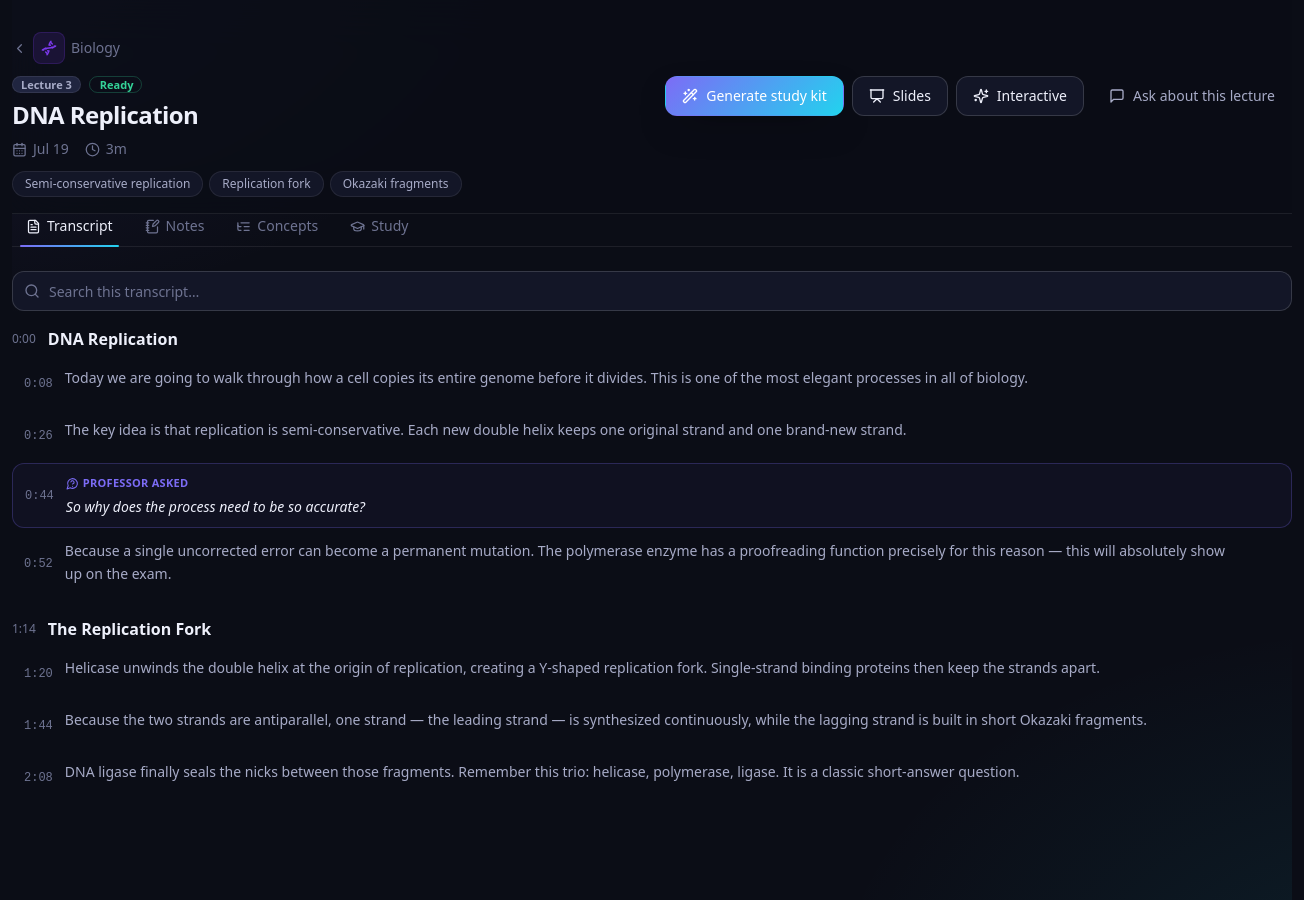
LecturePage › flips a flashcard to reveal its answer
The image size is (1304, 900).
Click the tab "Study" at (379, 226), box x1=336 y1=206 x2=422 y2=246
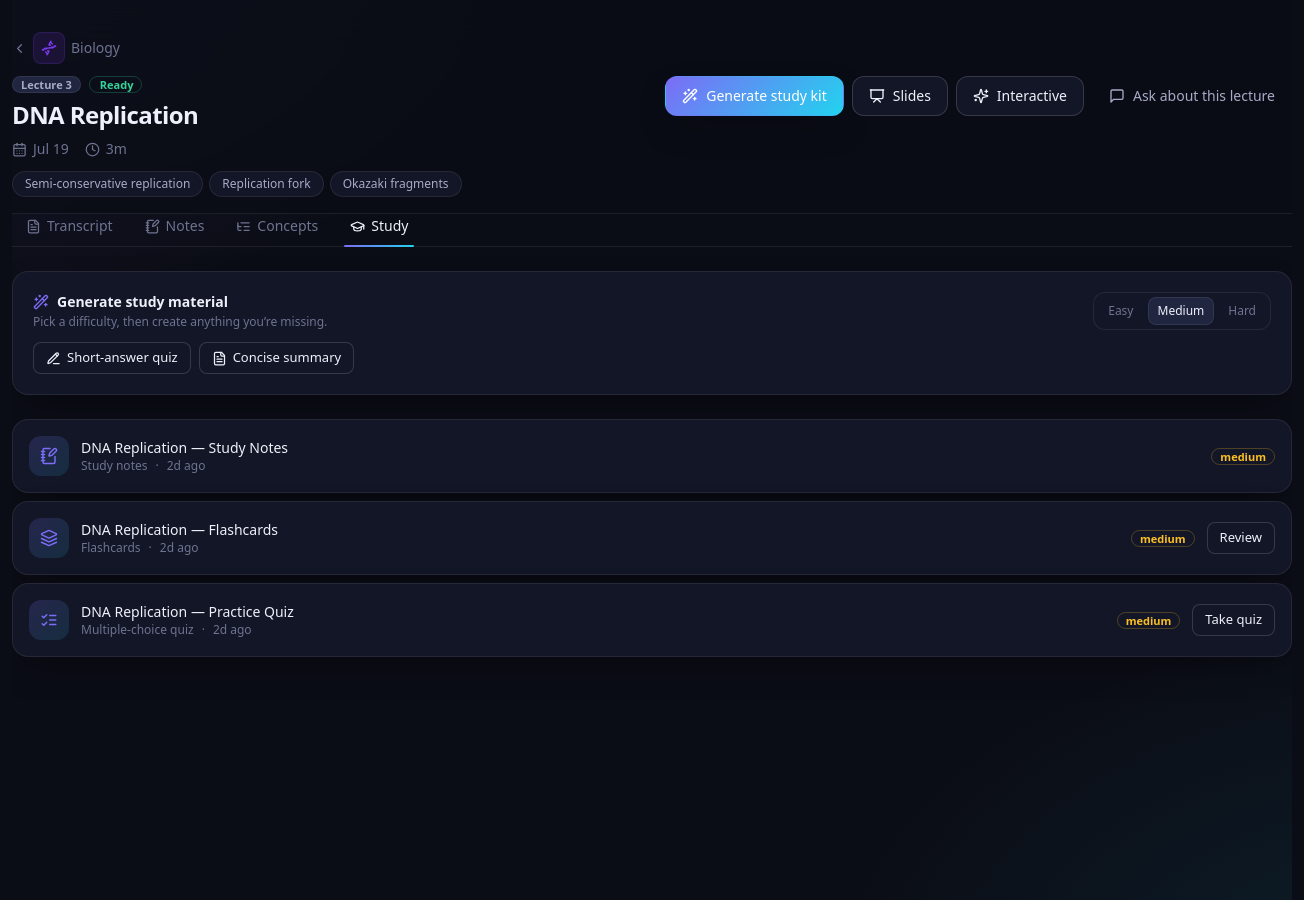
Click the button "Review" at (1241, 538), box x1=1207 y1=522 x2=1275 y2=554
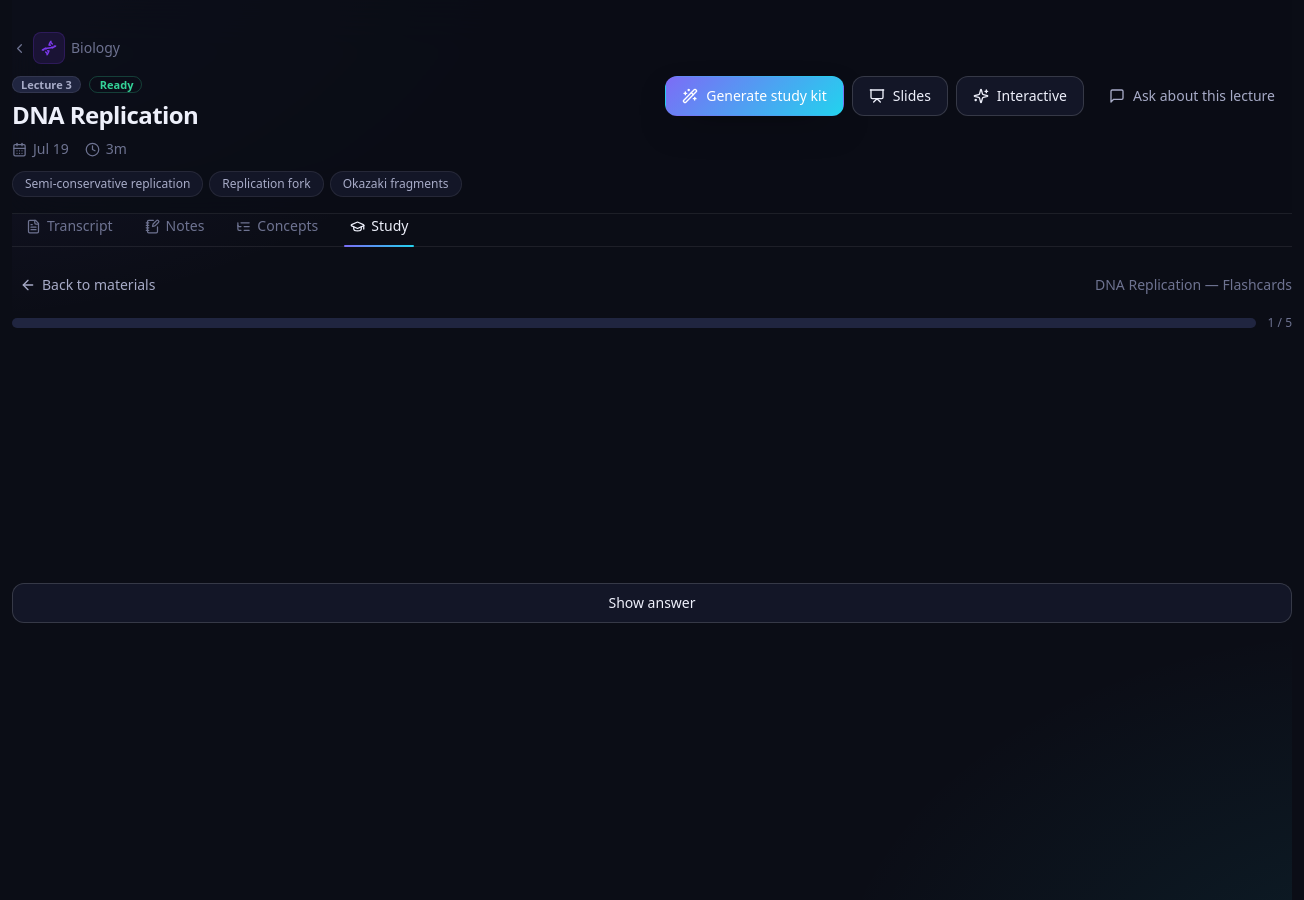
Click the button "Show answer" at (652, 603), box x1=12 y1=583 x2=1292 y2=623
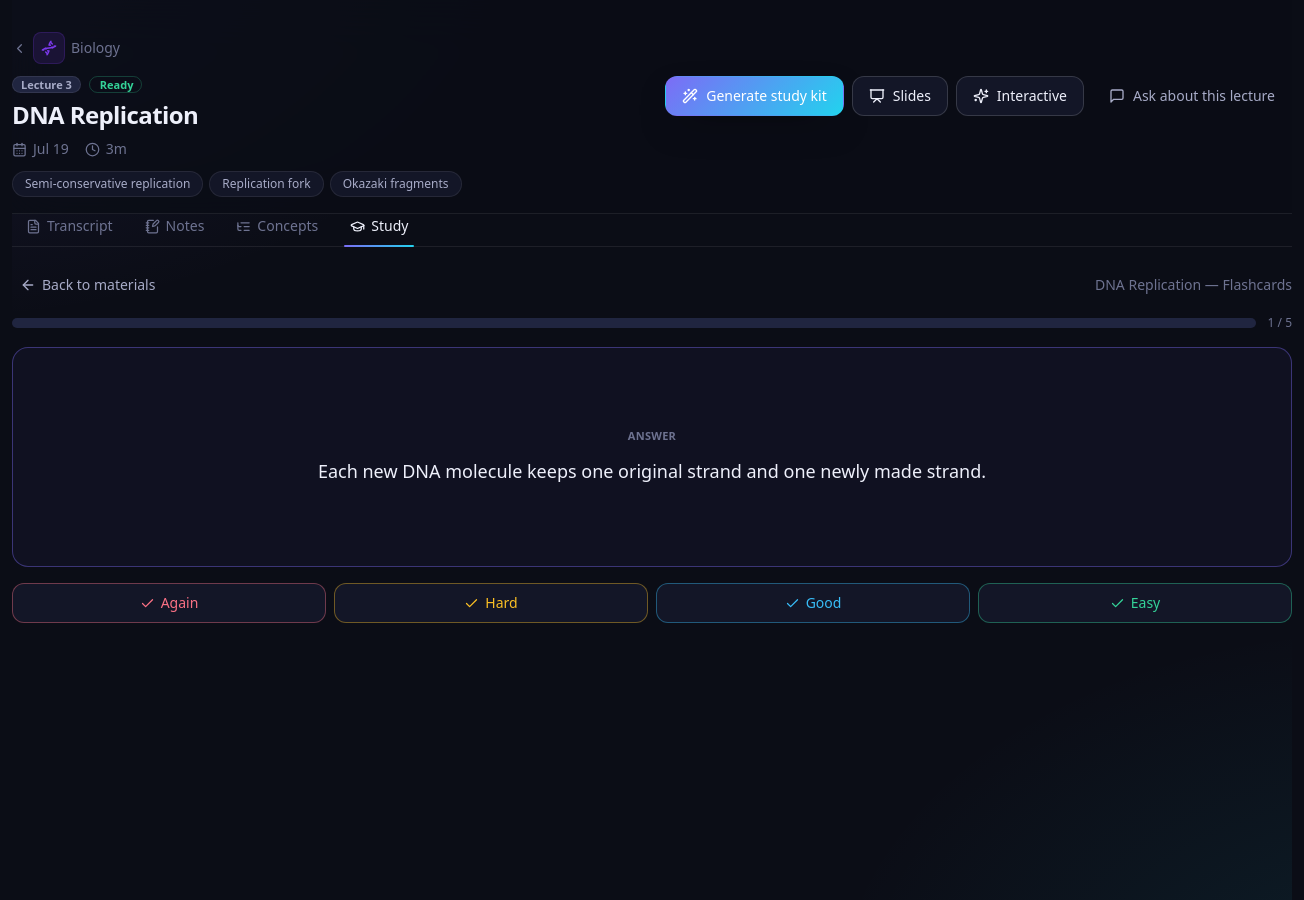
Check: the text "Each new DNA molecule keeps one original strand" is shown, box x1=318 y1=459 x2=986 y2=483
